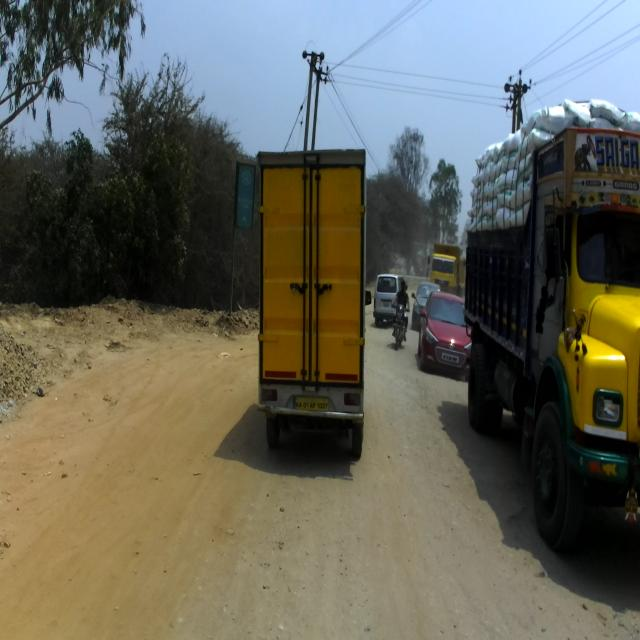car ahead at: (417, 287, 471, 374)
truck ahead at: (473, 107, 640, 550), (260, 144, 366, 450)
